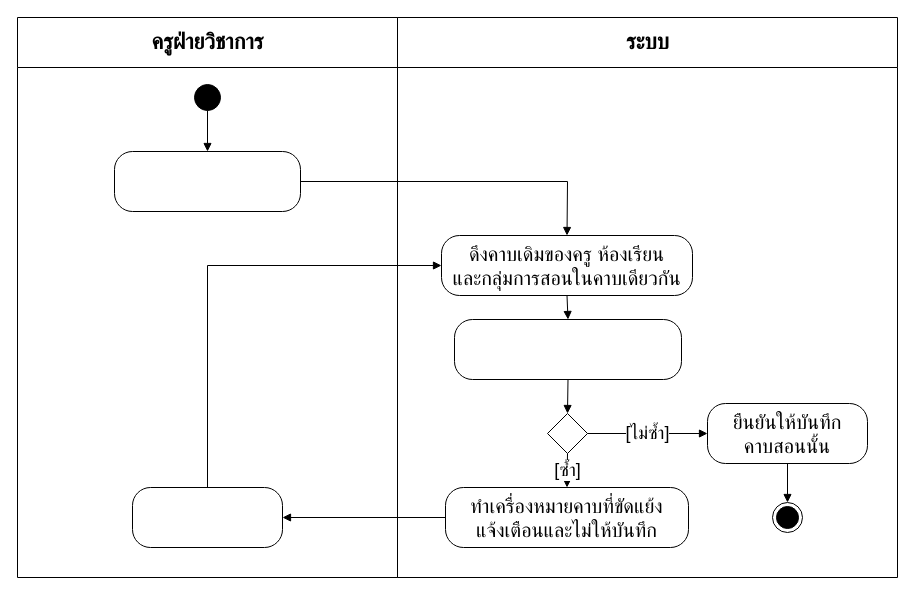
Some shapes in this 915 by 595 pixel diagram are drawn without their labels. Here are the shapes that lost their labels. From the top down, the centre of each, then its label:
point 207,181: วางหรือแก้ไขรายวิชา ในคาบเรียน
point 568,349: เปรียบเทียบครู ห้องเรียน และกลุ่มการสอนที่ซ้ำกัน
point 207,517: แก้ไขรายวิชา หรือคาบเรียน
